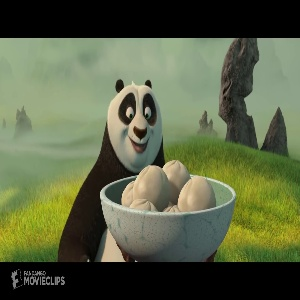po: (55, 75, 174, 261)
